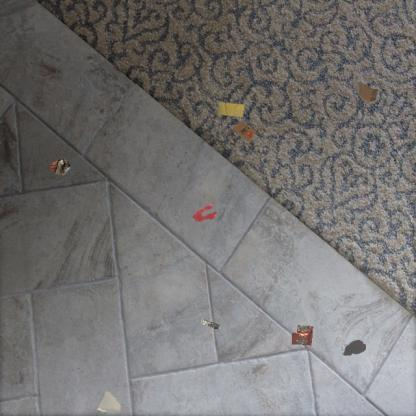dirty: (96, 390, 123, 416), (355, 79, 381, 105), (290, 323, 315, 348), (216, 100, 246, 119), (232, 120, 256, 143), (48, 156, 73, 177), (200, 318, 221, 329)
liquid: (192, 201, 218, 223), (341, 340, 366, 356)
